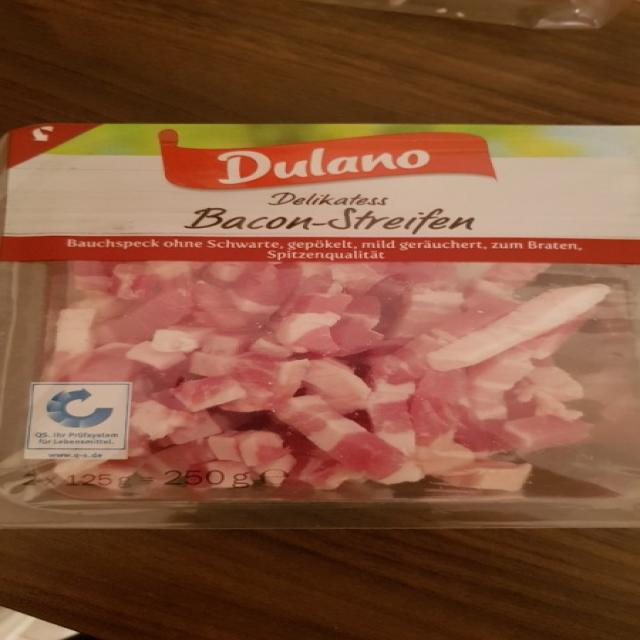bacon: (64, 263, 612, 497)
